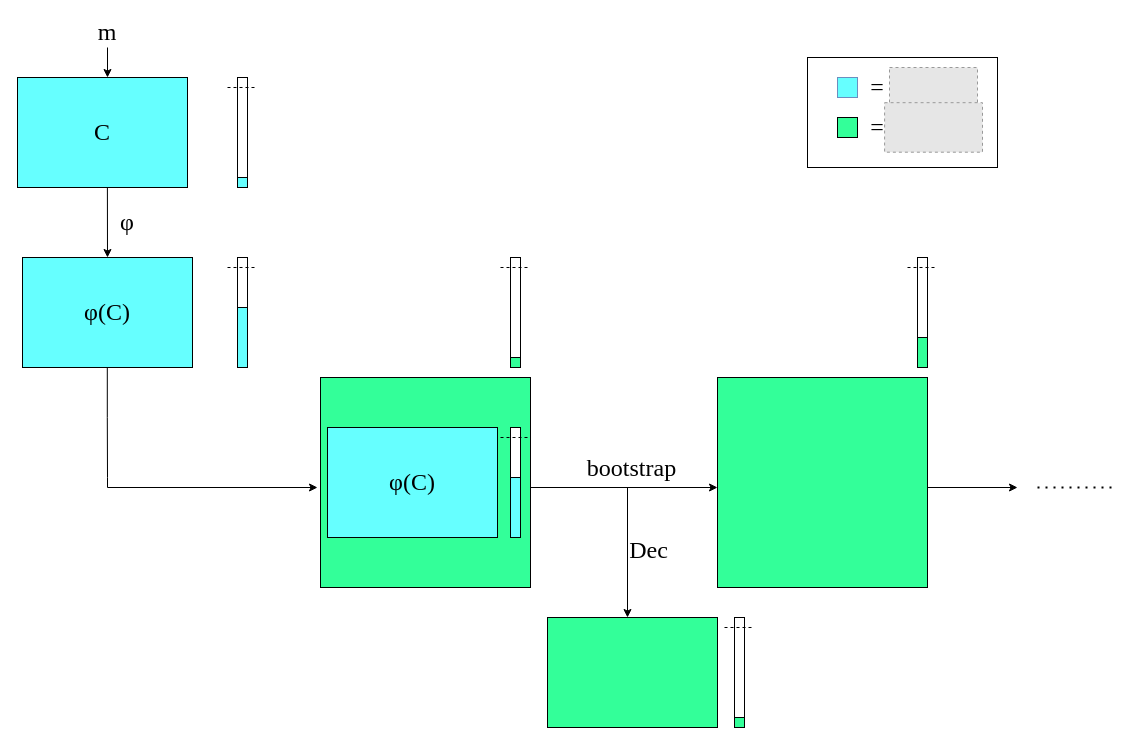
Image size: 1137x745. Some labels were removed from this diagram. Grey dashed boxes stand in for pictures. Each missing label, with the centre of its shape:
"φ(m )" belongs at (x=632, y=672).
"φ（C）" belongs at (x=822, y=482).
